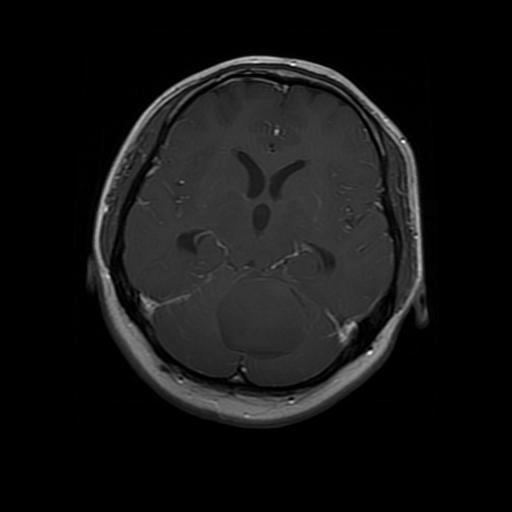Tumour-Glioma: (225, 275, 315, 354)
